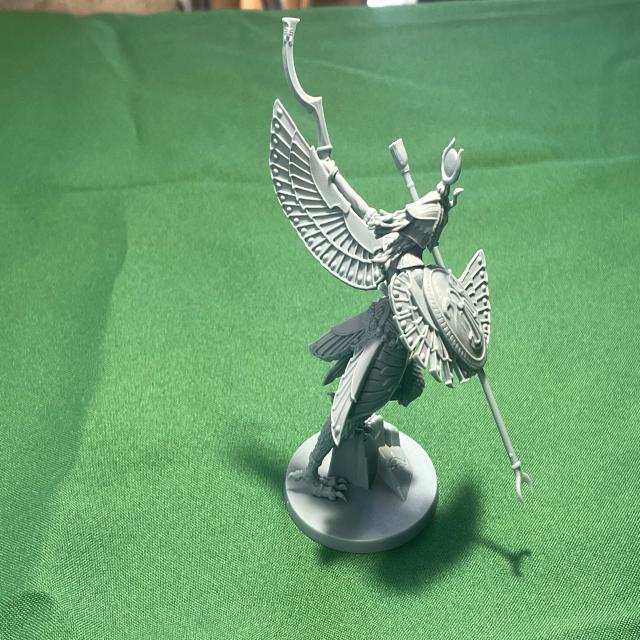isis: (237, 5, 549, 595)
